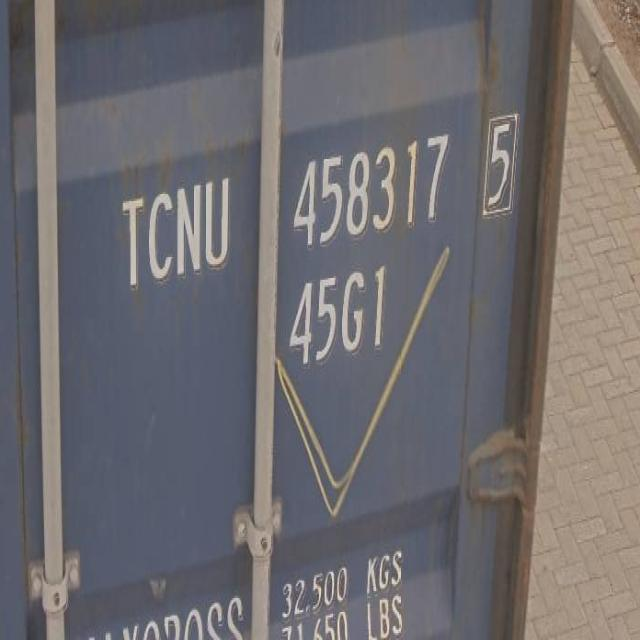dv: (481, 103, 519, 224)
owner: (117, 170, 236, 296)
serial: (286, 133, 454, 250)
size: (284, 257, 391, 367)
